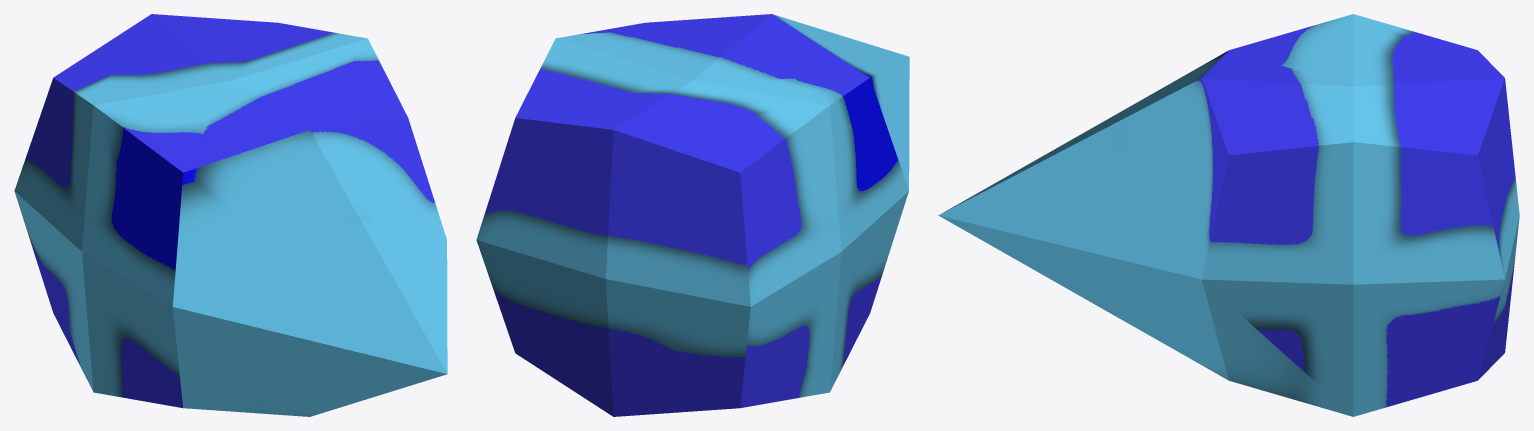
File: playerbullet.obj
The picture shows the model from 3 angles, left to right: view 1: azimuth 30°, elevation 25°; view 2: azimuth 150°, elevation 25°; view 3: azimuth 270°, elevation 25°; orthographic projection. The views are drawn at different scales.
Parts seen in each view (by area): view 1: Cube; view 2: Cube; view 3: Cube.
Part boxes in pixels (left/top/right/bottom): Cube: left=14, top=14, right=447, bottom=416; Cube: left=476, top=14, right=909, bottom=416; Cube: left=938, top=14, right=1519, bottom=416.
Size of the model in its own units: 1.32 by 1.26 by 2.34.
1 material, 1 textured.
